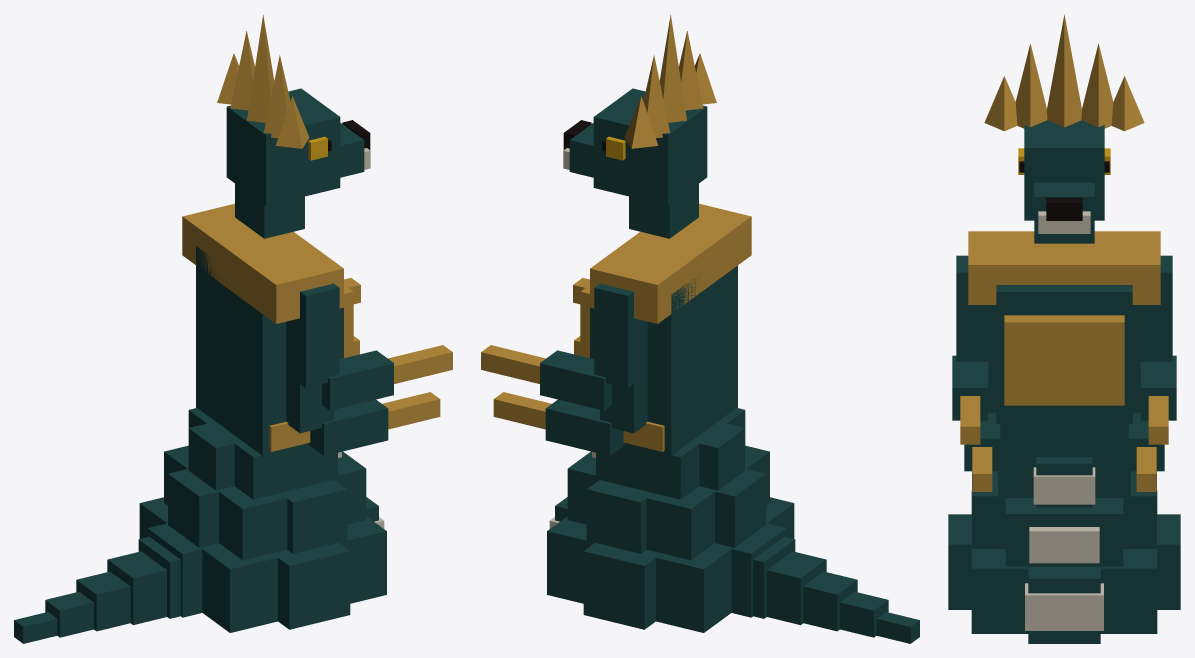
The model's file is naga.glb.
3 views of the same model, side by side, from view 1: azimuth 30°, elevation 25°; view 2: azimuth 150°, elevation 25°; view 3: azimuth 270°, elevation 25° (orthographic). The views are drawn at different scales.
Visible parts, largest first — view 1: geometry_0; view 2: geometry_0; view 3: geometry_0.
Boxes of the visible parts, box(x1,y1,x2,y2) form: geometry_0: box(14, 15, 452, 643); geometry_0: box(481, 15, 919, 643); geometry_0: box(948, 14, 1180, 643).
Size of the model in its own units: 1.13 by 1.6 by 0.58.
